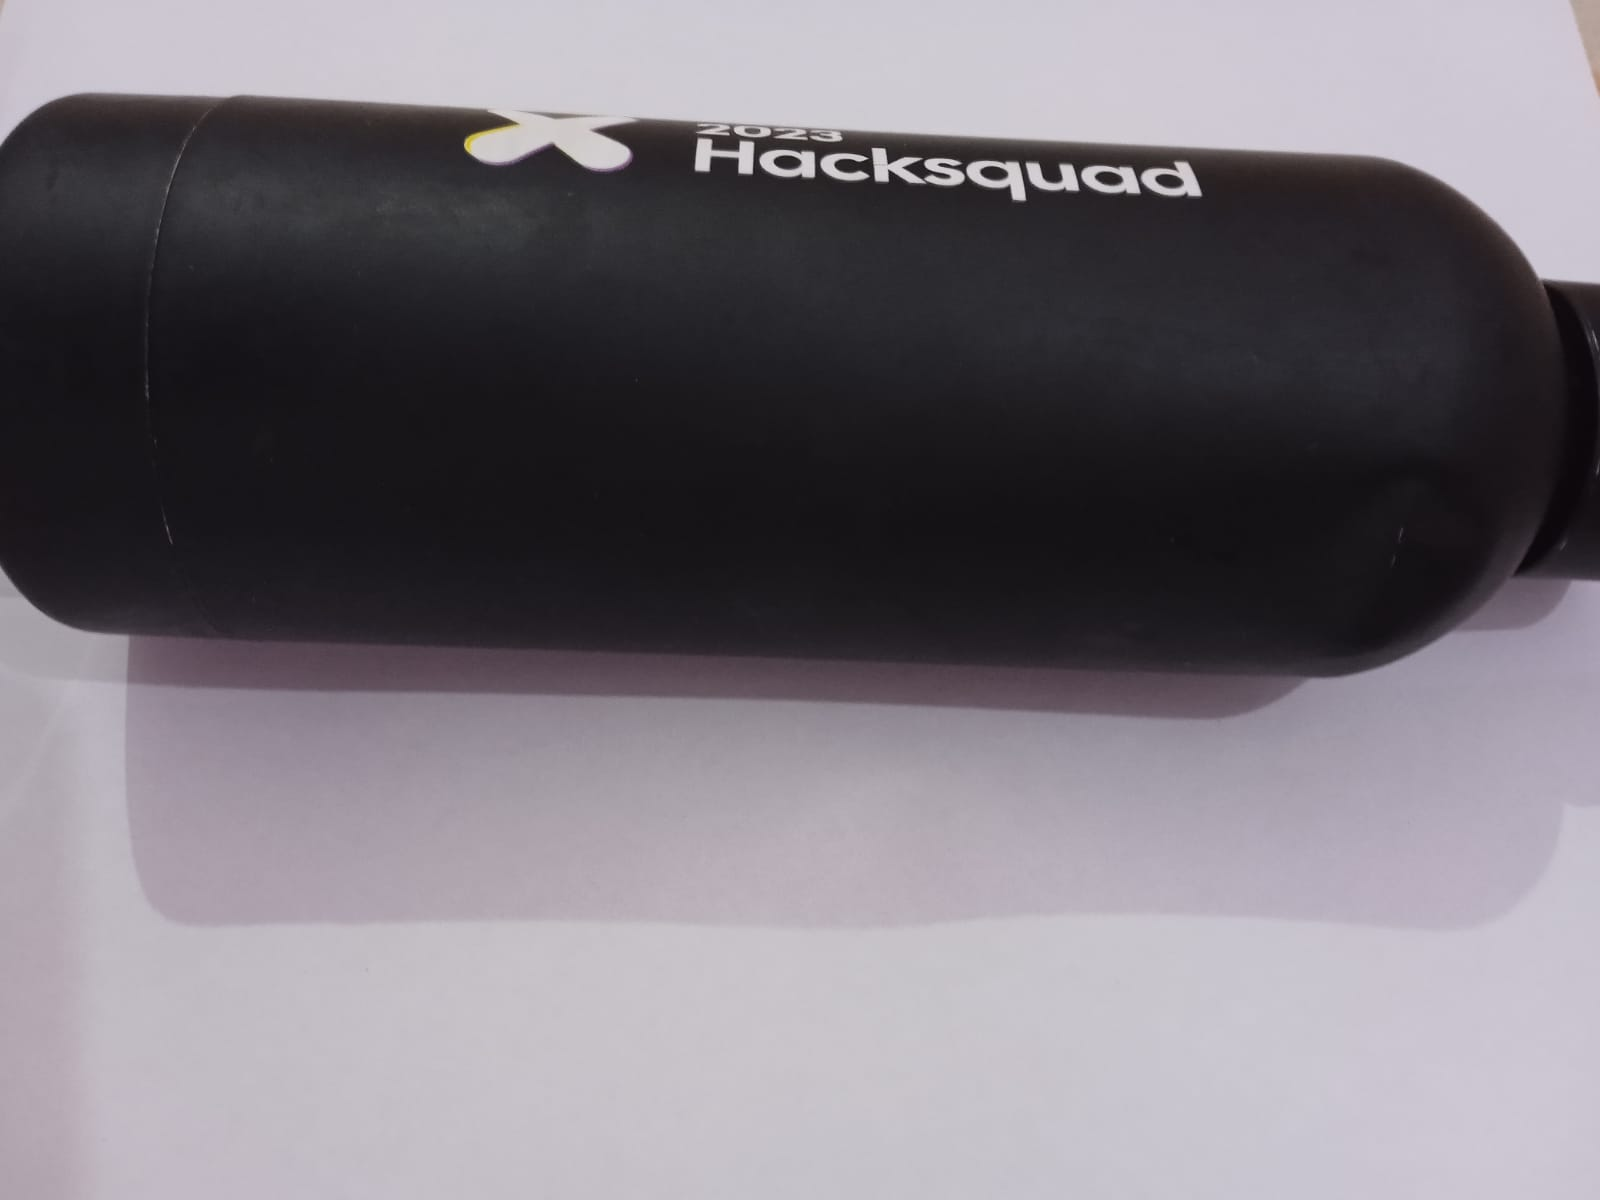bottle: (5, 76, 1592, 684)
